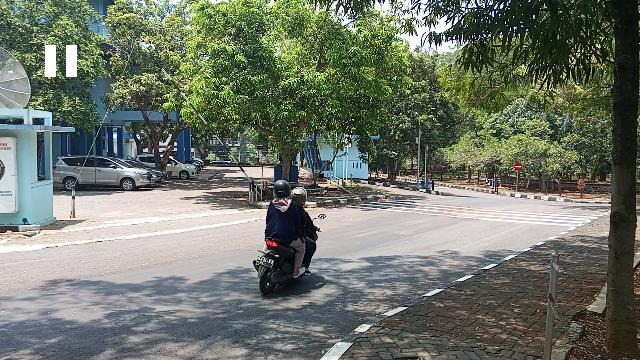helm: (291, 189, 308, 207), (275, 181, 290, 198)
motor: (254, 238, 297, 296)
